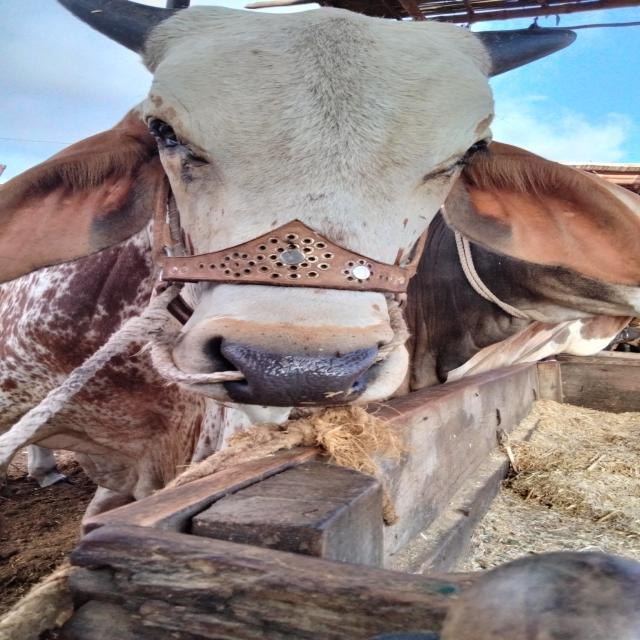muzzles: (182, 324, 410, 409)
